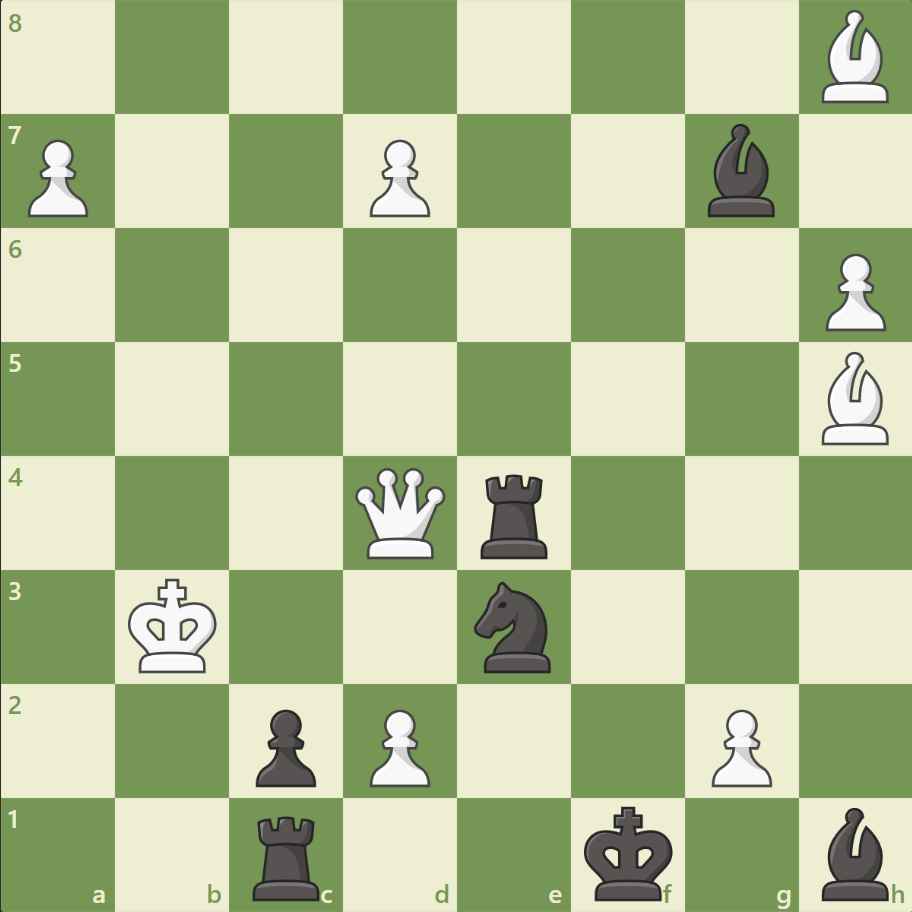B: (812, 6, 896, 109), (812, 347, 896, 449)
K: (124, 571, 224, 679)
P: (20, 132, 95, 223), (701, 700, 776, 791), (361, 132, 435, 223), (815, 246, 889, 337), (361, 700, 435, 791)
Q: (351, 463, 450, 562)
b: (812, 801, 896, 904), (698, 120, 782, 222)
k: (579, 798, 679, 906)
n: (465, 575, 562, 677)
p: (247, 700, 322, 791)
r: (246, 806, 329, 904), (473, 466, 556, 563)
